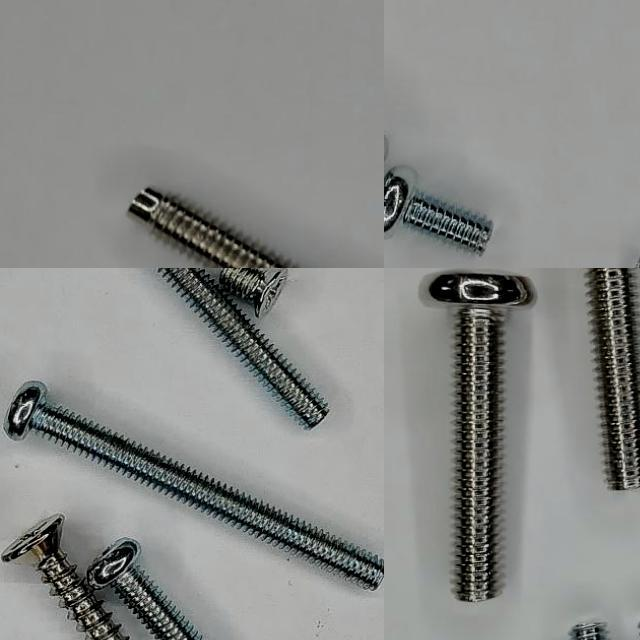Screw: (4, 382, 384, 590), (427, 273, 535, 602), (157, 268, 328, 428), (2, 516, 129, 640), (131, 188, 296, 268), (585, 268, 640, 490), (86, 539, 205, 640), (384, 167, 492, 254), (220, 268, 288, 317)
